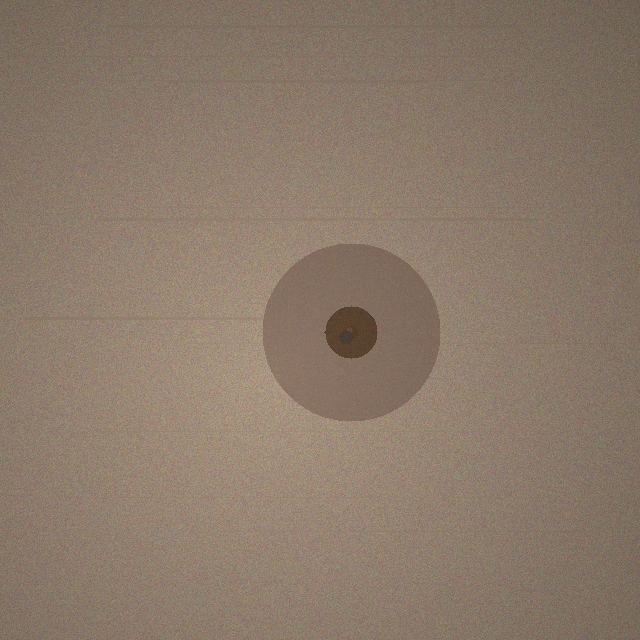cold_weld: (262, 243, 440, 421)
